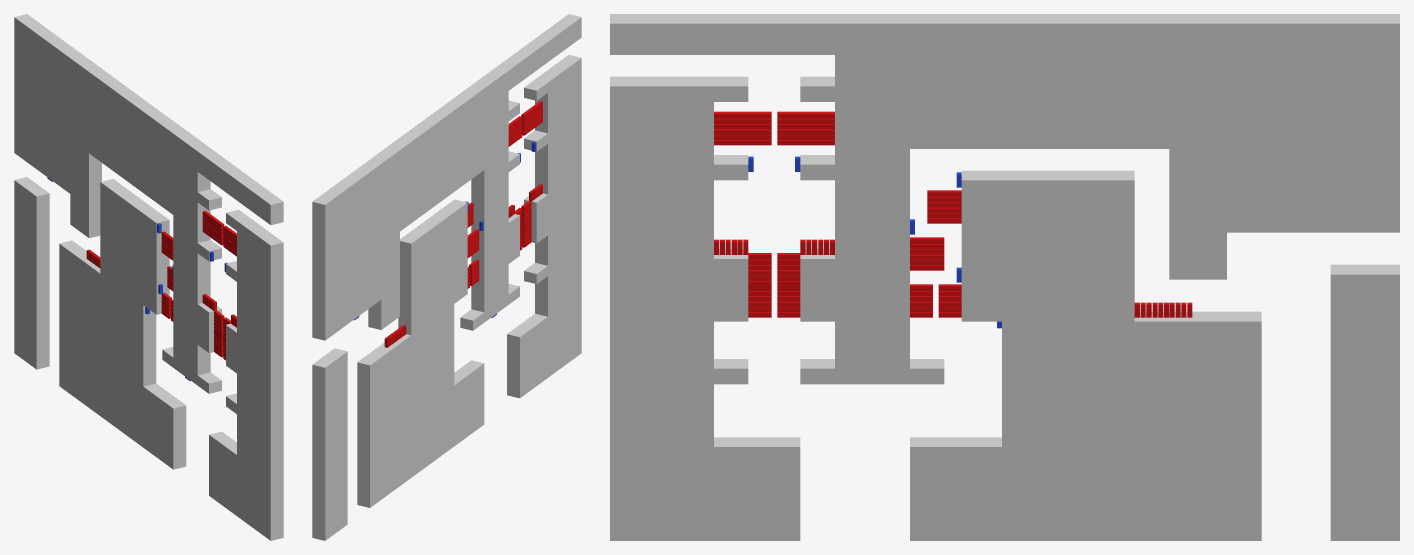
3 renders of one model, left to right at view 1: azimuth 30°, elevation 25°; view 2: azimuth 150°, elevation 25°; view 3: azimuth 270°, elevation 25°, orthographic. The views are drawn at different scales.
Visible parts, largest first — view 1: Cube.001, Cube.005, Cube.019, Cube.020, Cube.004, Cube.003, Cube.013, Cube.011, Cube.014, Cube.012, Cube.010, Cube.021 (+5 smaller); view 2: Cube.019, Cube.001, Cube.005, Cube.013, Cube.020, Cube.004, Cube.003, Cube.010, Cube.014, Cube.011, Cube.012, Cube.021 (+7 smaller); view 3: Cube.019, Cube.005, Cube.001, Cube.020, Cube.013, Cube.004, Cube.003, Cube.011, Cube.014, Cube.010, Cube.012, Cube.021 (+12 smaller).
Part boxes in pixels (x1,y1,x2,y2): Cube.001: [237, 218, 283, 540]; Cube.005: [100, 179, 156, 447]; Cube.019: [14, 14, 101, 207]; Cube.020: [89, 69, 185, 214]; Cube.004: [173, 130, 210, 385]; Cube.003: [14, 177, 49, 369]; Cube.013: [59, 240, 100, 415]; Cube.011: [143, 383, 186, 469]; Cube.014: [197, 148, 283, 224]; Cube.012: [143, 210, 169, 314]; Cube.010: [209, 431, 236, 515]; Cube.021: [70, 194, 100, 238]; Cube.019: [312, 147, 399, 340]; Cube.001: [535, 55, 581, 377]; Cube.005: [398, 209, 454, 477]; Cube.013: [357, 334, 411, 507]; Cube.020: [387, 85, 484, 231]; Cube.004: [471, 67, 508, 322]; Cube.003: [312, 348, 347, 540]; Cube.010: [507, 313, 547, 398]; Cube.014: [496, 14, 581, 90]; Cube.011: [454, 360, 484, 445]; Cube.012: [442, 199, 467, 303]; Cube.021: [368, 286, 399, 329]; Cube.019: [1169, 14, 1399, 232]; Cube.005: [1002, 170, 1134, 540]; Cube.001: [610, 76, 713, 540]; Cube.020: [910, 14, 1169, 148]; Cube.013: [1134, 311, 1261, 540]; Cube.004: [835, 14, 909, 384]; Cube.003: [1330, 264, 1399, 540]; Cube.011: [910, 437, 1001, 540]; Cube.014: [610, 14, 834, 54]; Cube.010: [714, 437, 800, 540]; Cube.012: [961, 170, 1001, 321]; Cube.021: [1169, 232, 1226, 279].
Size of the model in its own units: 200 by 4950 by 6850.
